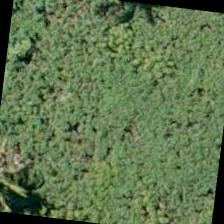Kelapa_Sawit: (0, 136, 54, 217)
